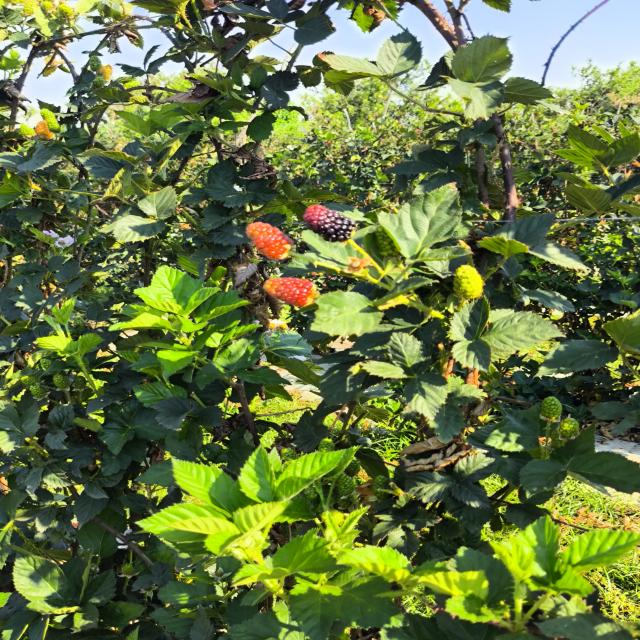marron: (303, 205, 355, 242)
naranja: (246, 222, 293, 260), (264, 278, 318, 307)
verde: (453, 265, 483, 300)
